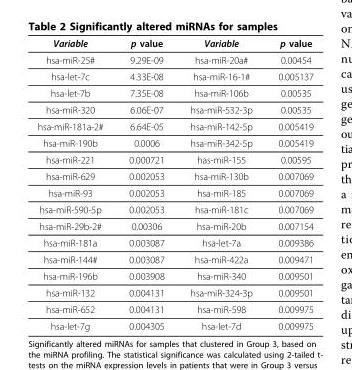table: (36, 37, 312, 331)
table column: (176, 37, 264, 331), (36, 37, 115, 331), (115, 37, 176, 331), (264, 37, 312, 331)
table row: (36, 67, 312, 84), (36, 84, 312, 101), (36, 117, 312, 134), (36, 134, 312, 151), (36, 167, 312, 184), (36, 200, 312, 217), (36, 217, 312, 234), (36, 250, 312, 267), (36, 267, 312, 284), (36, 300, 312, 317), (36, 51, 312, 67), (36, 101, 312, 117), (36, 151, 312, 167), (36, 184, 312, 200), (36, 234, 312, 250), (36, 284, 312, 300), (36, 37, 312, 51), (36, 317, 312, 331)
